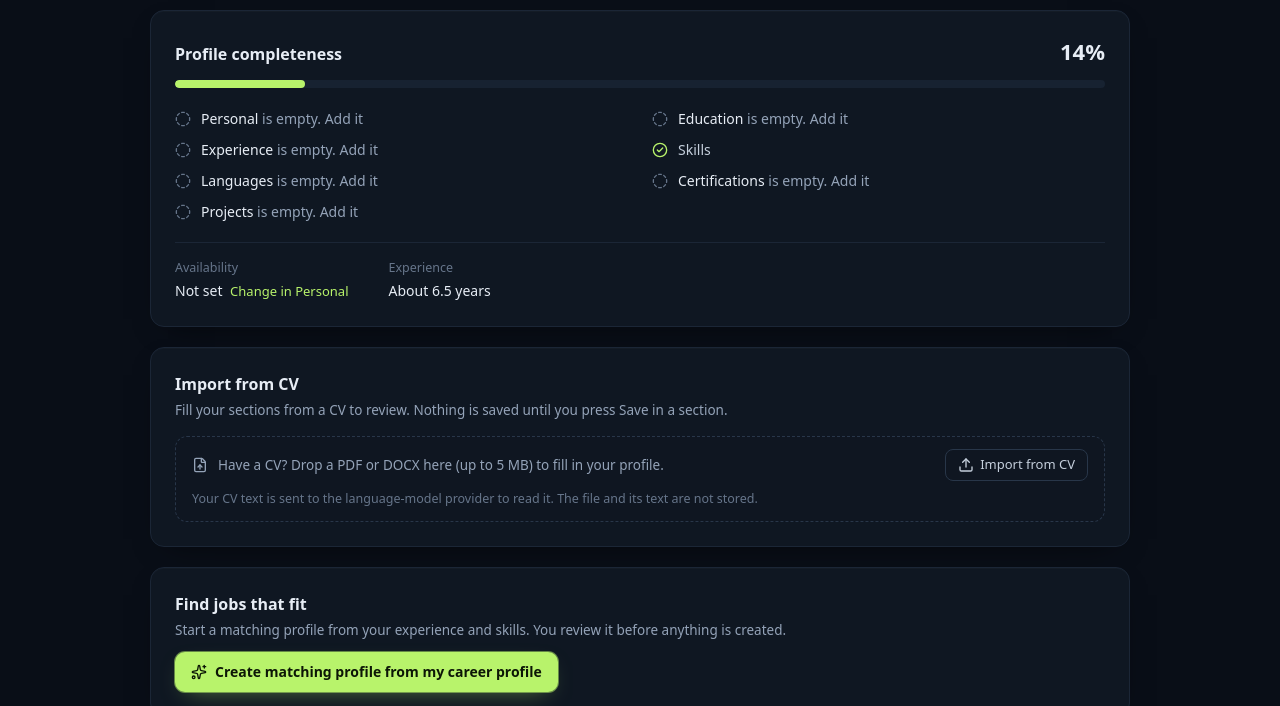
Scenario: Create matching profile from my career profile › opens in the create state when profiles are saved, and Cancel returns to the saved one and drops the draft
(page scrolled)
Click the button "Create matching profile from my career profile". click: (366, 672)
box: [175,652,558,692]
(page scrolled)
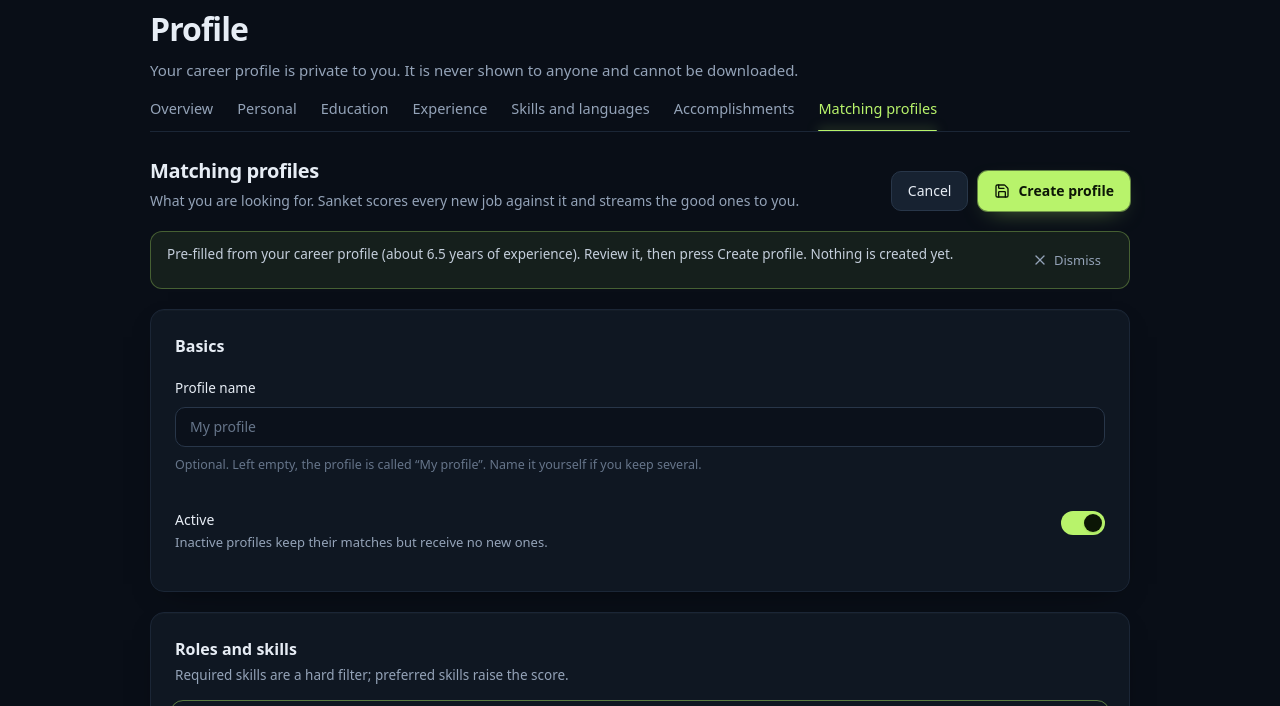
Result: the text "Pre-filled from your career profile" is shown at [167,245,378,263]
Result: the button "Create profile" is shown at [978,171,1130,211]
Click the button "Cancel". click: (930, 191)
box: [891,171,968,211]
(page scrolled)
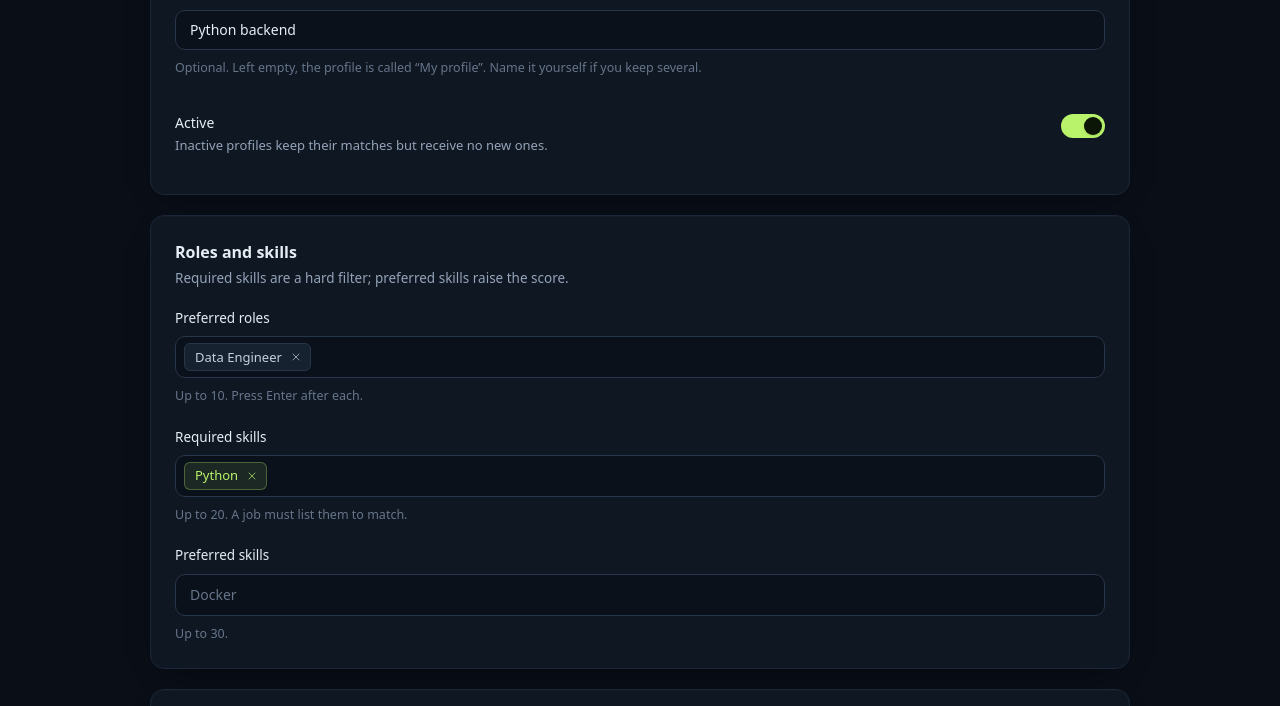
Result: the text "Pre-filled" is gone
Result: the field labelled "Profile name" holds "Python backend" at [175,10,1105,50]
Result: the text "Data Engineer" is shown at [184,343,311,371]
